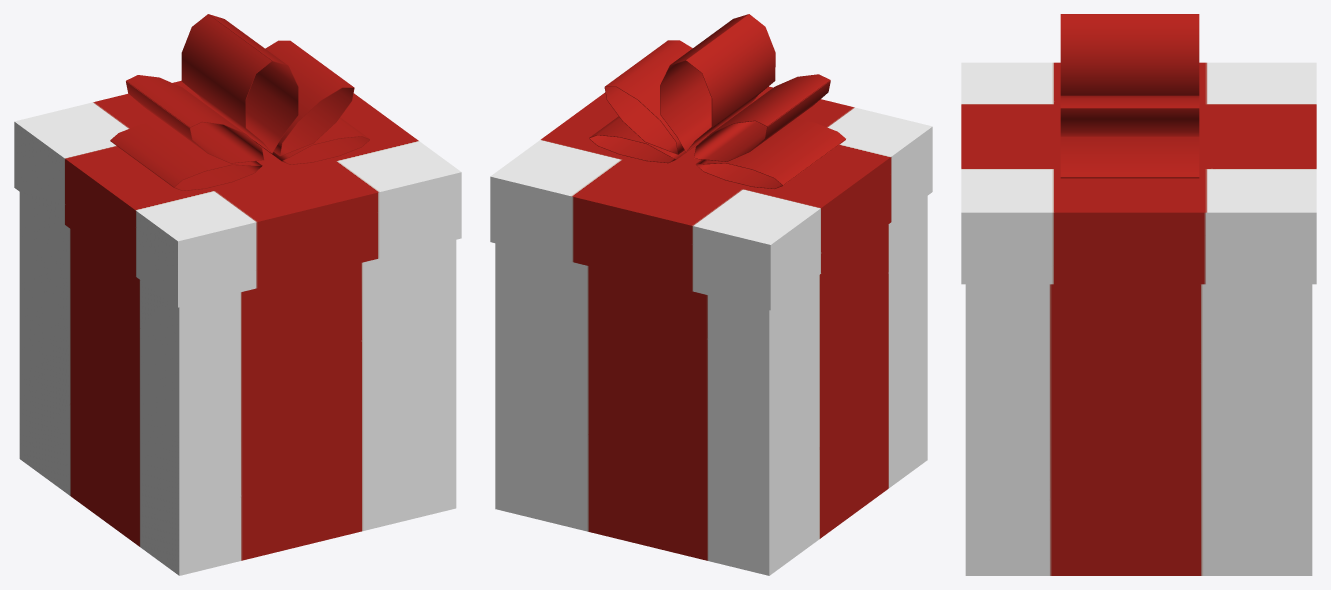
The model's file is present_plain_ver6.fbx.
The picture shows the model from 3 angles, left to right: view 1: azimuth 30°, elevation 25°; view 2: azimuth 150°, elevation 25°; view 3: azimuth 270°, elevation 25°; orthographic projection. The views are drawn at different scales.
Parts seen in each view (by area): view 1: Box, Top; view 2: Box, Top; view 3: Box, Top.
Part boxes in pixels (box(x1,y1,x2,y2)): Box: box(19, 192, 456, 575); Top: box(14, 14, 461, 307); Box: box(495, 196, 927, 575); Top: box(490, 14, 932, 310); Box: box(965, 284, 1312, 575); Top: box(961, 14, 1316, 284).
Bounding box in the file's own units: 10.24 × 15.52 × 10.24.
